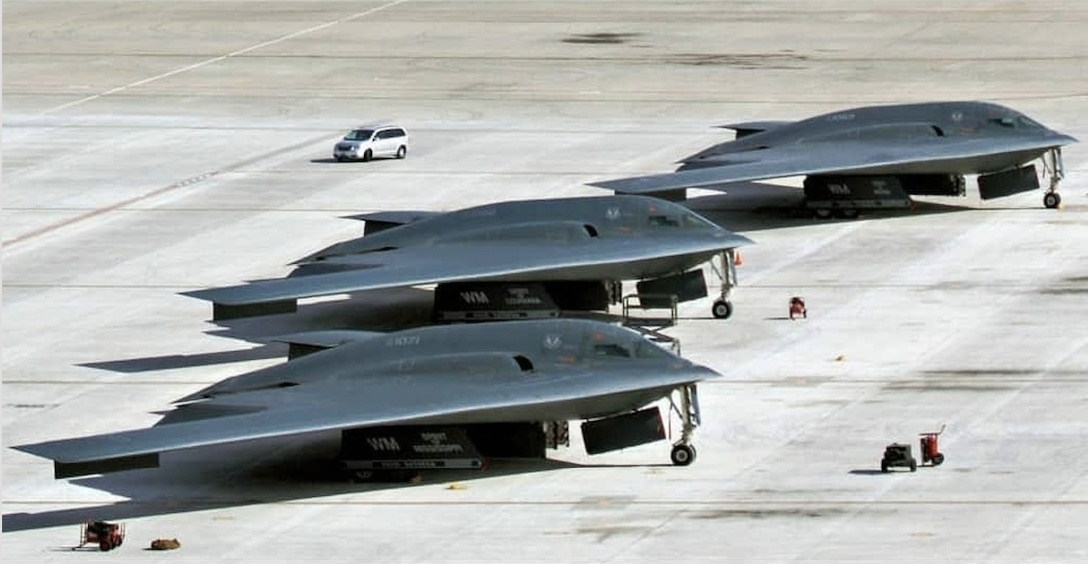B2: (4, 319, 723, 480), (173, 194, 759, 321), (583, 100, 1088, 219)
